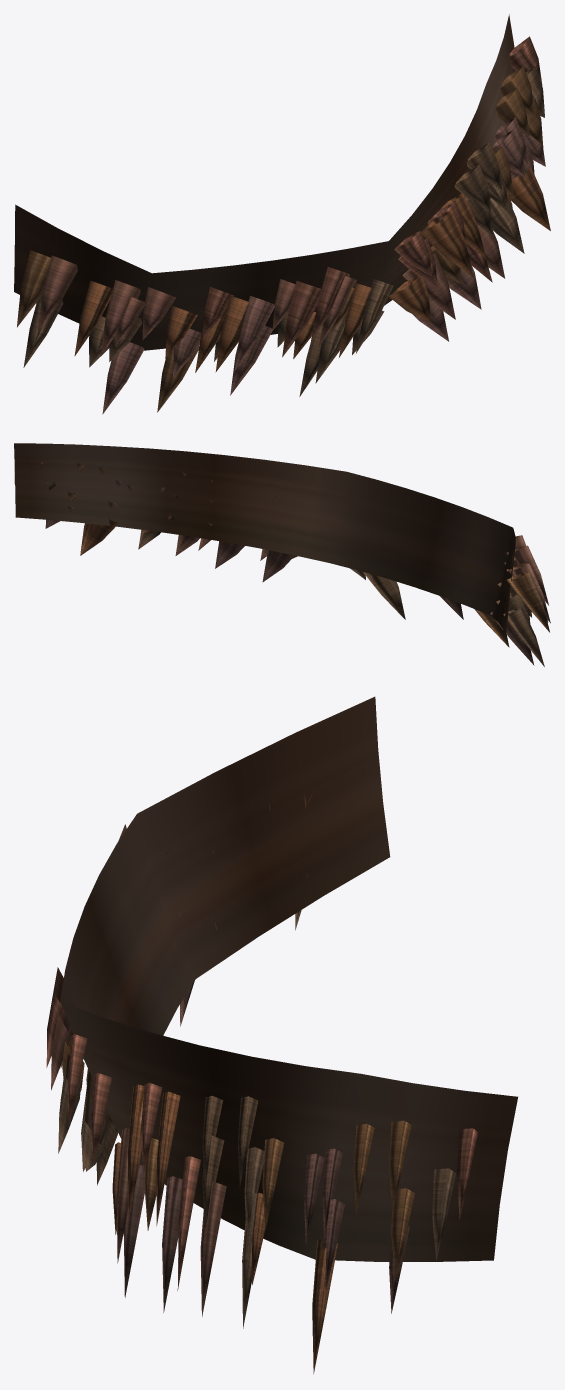
Rendered from fino.glb.
3 renders of one model, top to bottom at view 1: azimuth 30°, elevation 25°; view 2: azimuth 150°, elevation 25°; view 3: azimuth 270°, elevation 25°, orthographic. The views are drawn at different scales.
Visible parts, largest first — view 1: barba_fino; view 2: barba_fino; view 3: barba_fino.
Part boxes in pixels (x1=…): barba_fino: x1=14, y1=14, x2=550, y2=414; barba_fino: x1=14, y1=443, x2=550, y2=666; barba_fino: x1=46, y1=696, x2=517, y2=1374.
Size of the model in its own units: 0.1044 by 0.0372 by 0.0431.
1 material, 1 textured.
